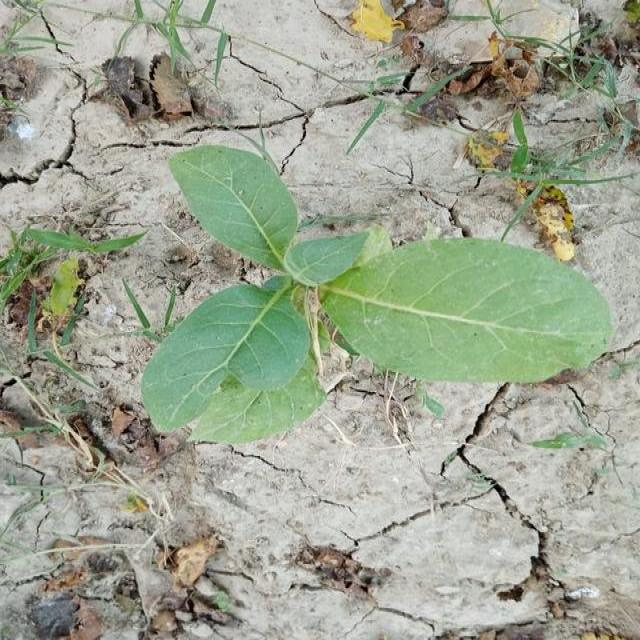crop: (142, 139, 618, 443)
